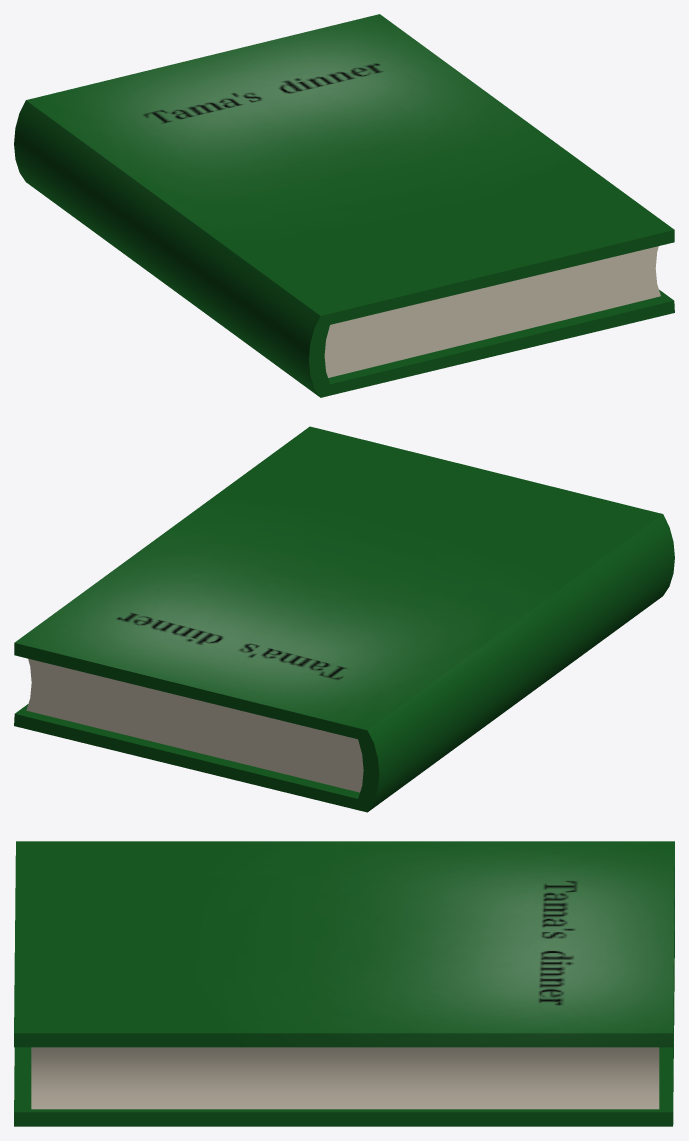
Rendered from book.fbx.
3 views of the same model, one above another, from view 1: azimuth 30°, elevation 25°; view 2: azimuth 150°, elevation 25°; view 3: azimuth 270°, elevation 25° (orthographic). The views are drawn at different scales.
Parts seen in each view (by area): view 1: pCylinder4; view 2: pCylinder4; view 3: pCylinder4.
Part boxes in pixels (x1,y1,x2,y2): pCylinder4: [14, 14, 674, 397]; pCylinder4: [14, 426, 674, 812]; pCylinder4: [14, 841, 674, 1126].
Bounding box in the file's own units: 16.03 × 3.48 × 22.47.
